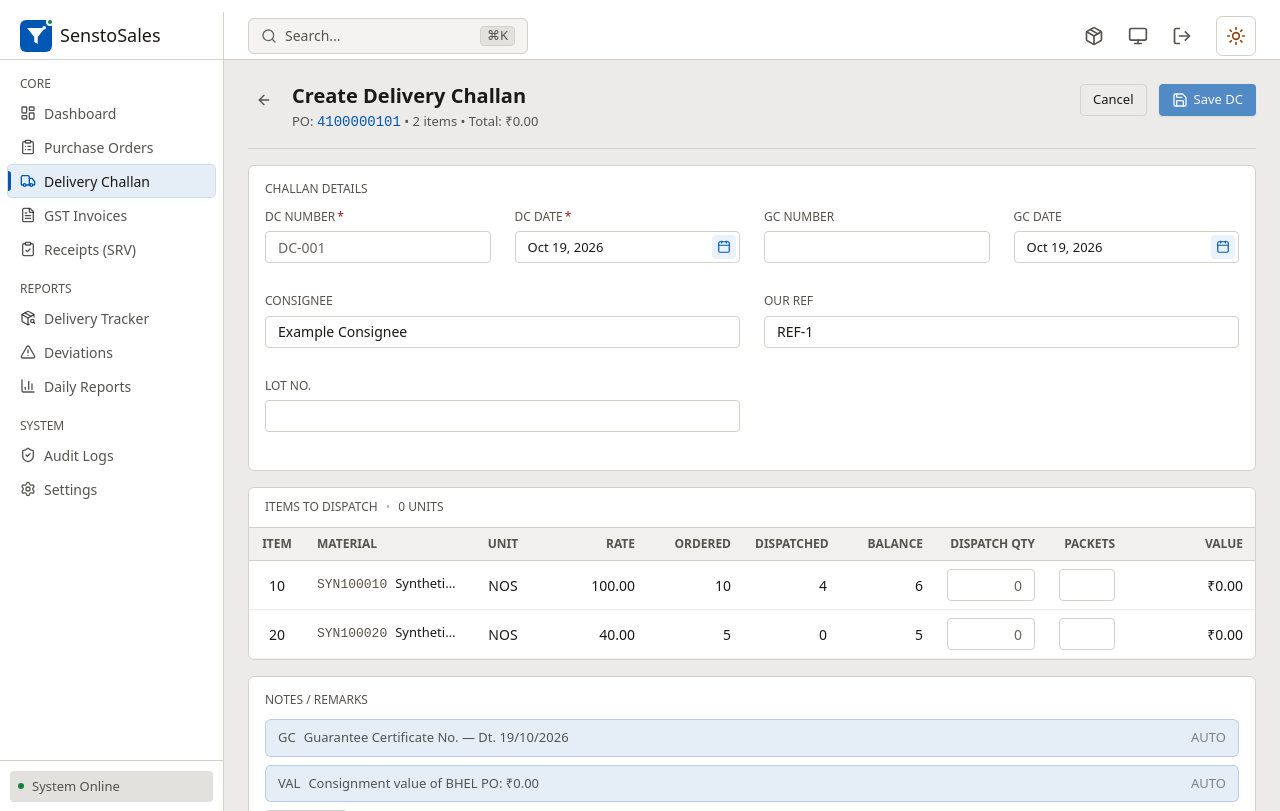
Test: /dc/create (SPEC-18 PR 2) › marks a taken number and keeps Save disabled while it is (INV-22)
In the field labelled "DC Number*": (378, 247) [265,231,490,263], type "17"
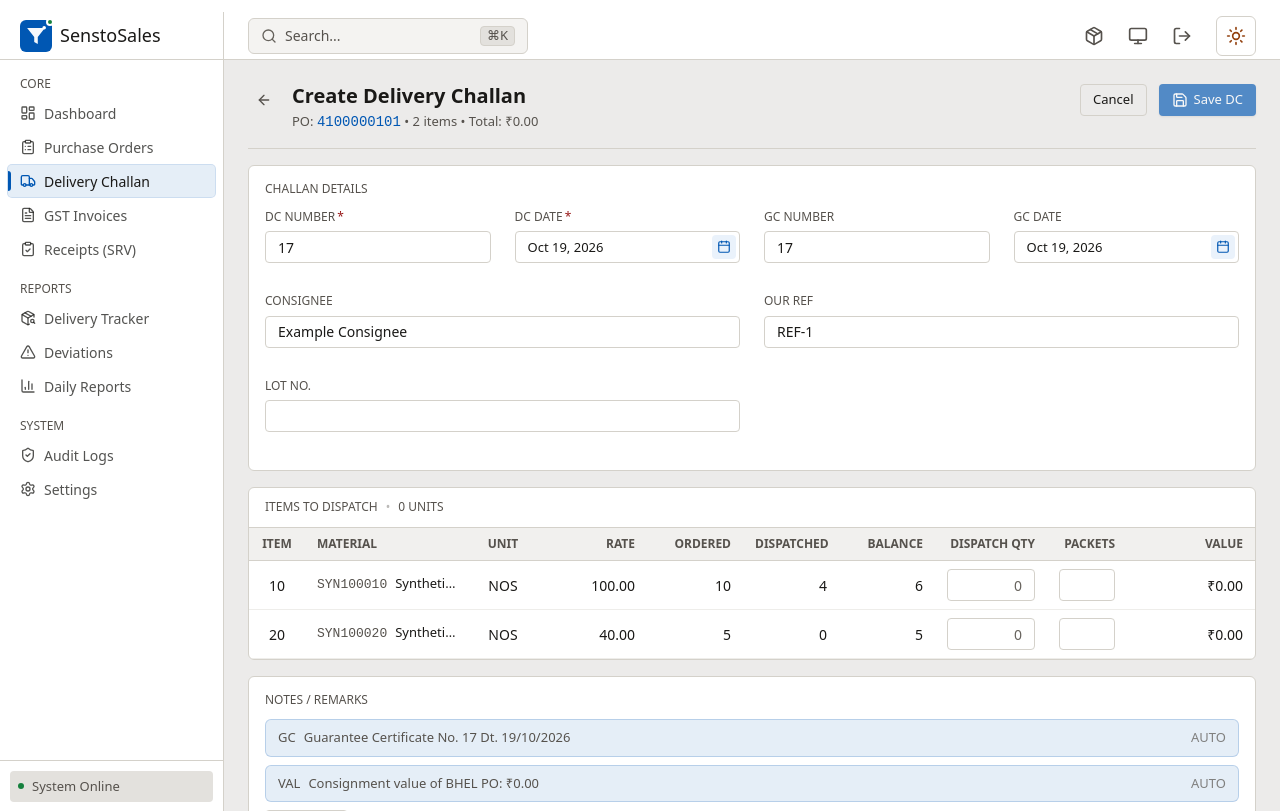
Replace the text in the field labelled "DC Date*" with "02/05/2025": (627, 247) [514,231,740,263]
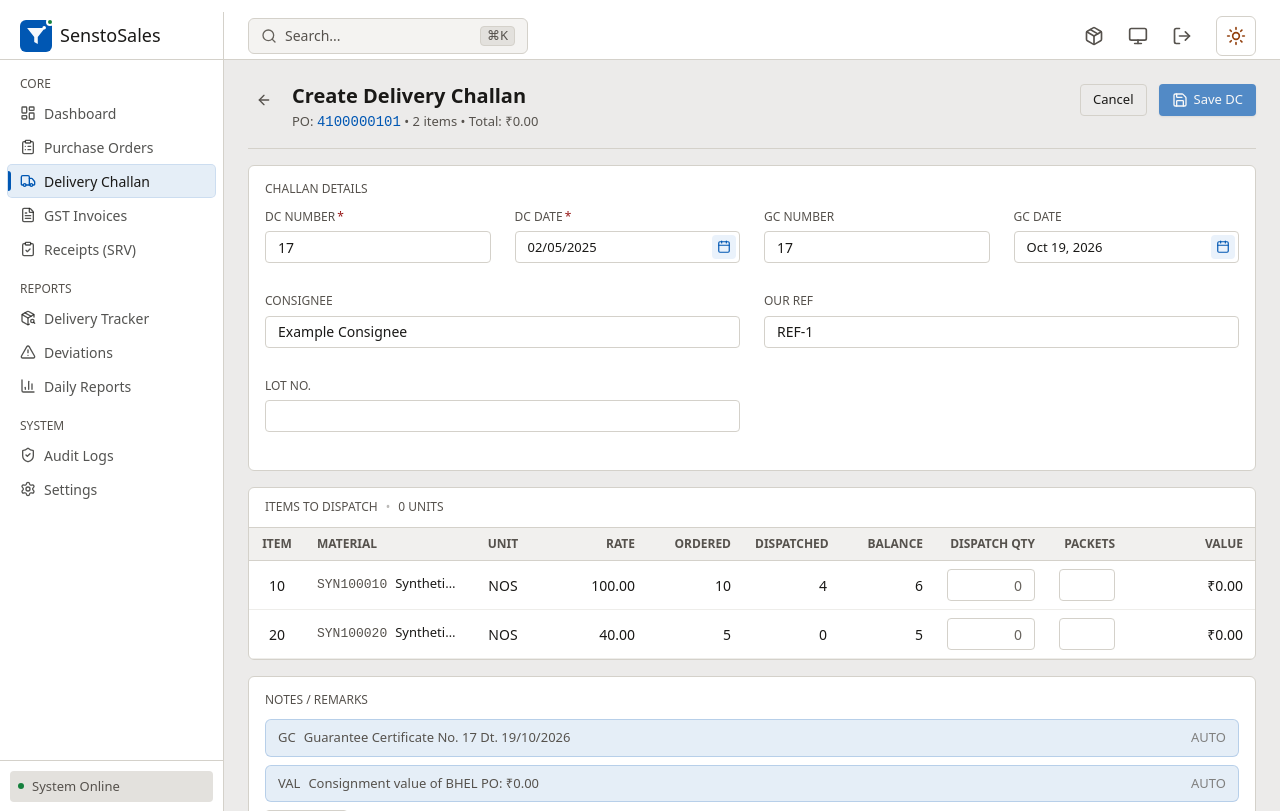
Leave the field labelled "DC Date*", box [514,231,740,263]
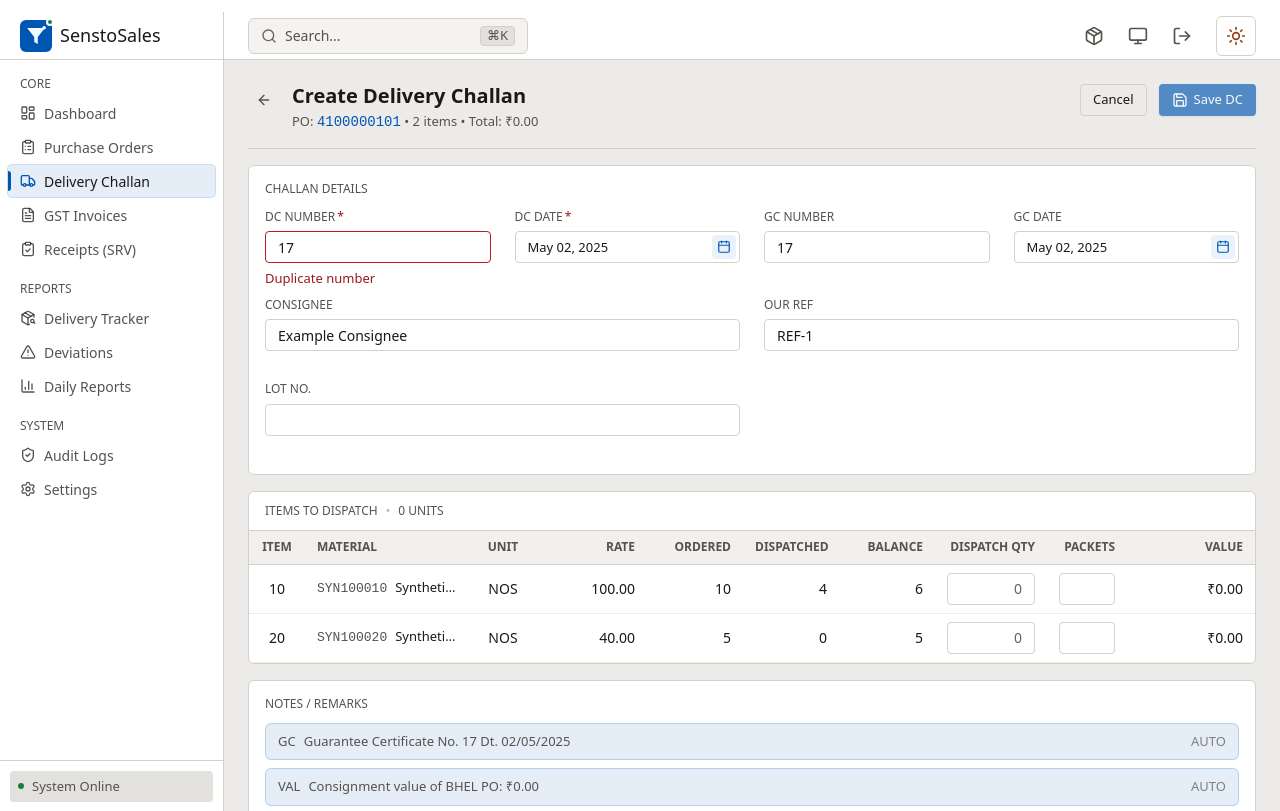
Check: the button "Save DC" is disabled, box [1158,84,1256,116]
Check: the text "Duplicate number" is shown, box [265,269,375,287]
